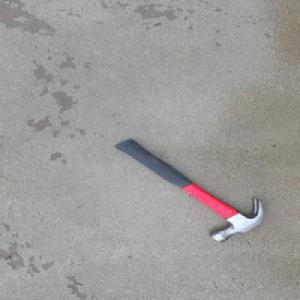Hammer: (112, 137, 264, 243)
